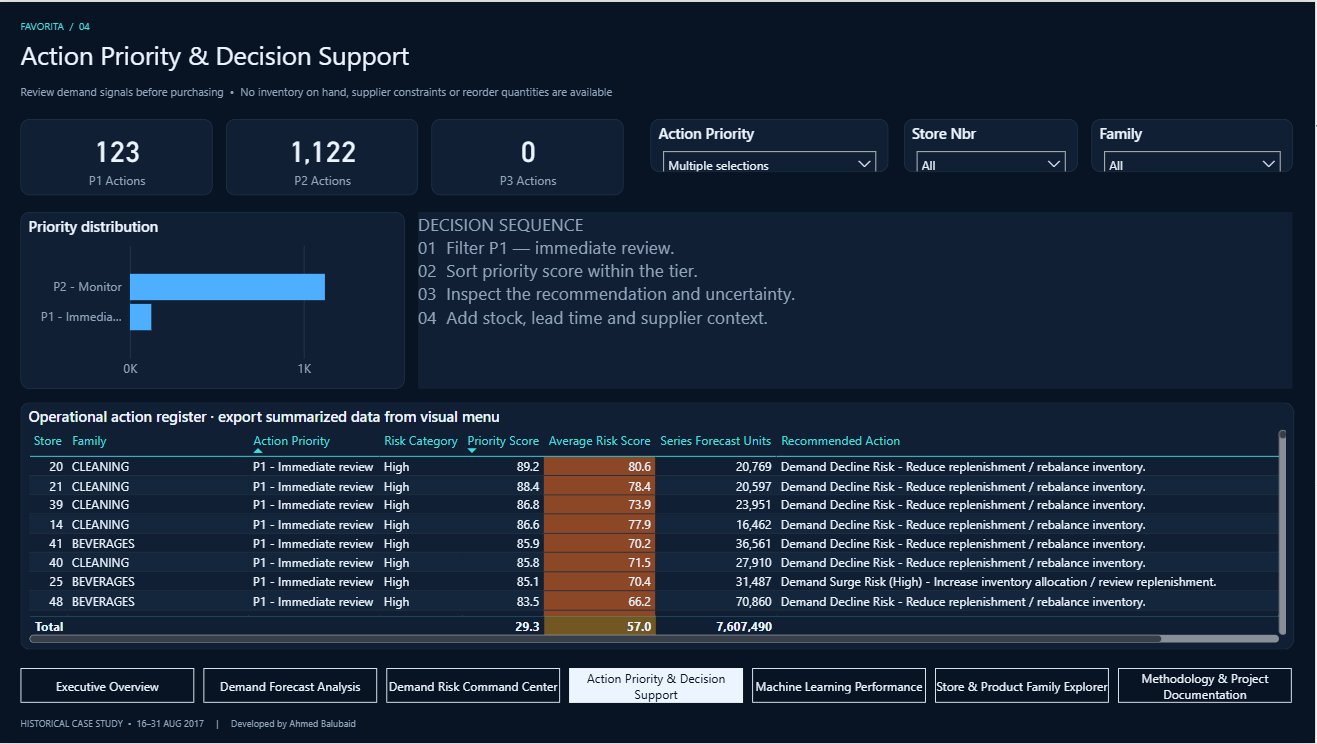

This screenshot's page, from the dashboard's own definition file:
{"tool":"powerbi","page":{"name":"Action Priority & Decision Support","canvas":[1440,810],"ordinal":3},"visuals":[{"type":"textbox","box":[24,14,300,24],"z":54},{"type":"textbox","box":[24,40,1370,44],"z":55},{"type":"textbox","box":[24,87,1370,30],"z":56},{"type":"textbox","box":[24,777,1040,22],"z":57},{"type":"pageNavigator","box":[24,729,1392,38],"z":58},{"type":"card","fields":{"Values":["FactForecast.P1 Actions"]},"box":[24,128,210,83],"z":59},{"type":"card","fields":{"Values":["FactForecast.P2 Actions"]},"box":[249,128,210,83],"z":60},{"type":"card","fields":{"Values":["FactForecast.P3 Actions"]},"box":[474,128,210,83],"z":61},{"type":"slicer","title":"Action Priority","fields":{"Values":["DimPriority.action_priority"]},"box":[714,128,260,58],"z":62},{"type":"slicer","title":"Store Nbr","fields":{"Values":["DimStore.store_nbr"]},"box":[990,128,190,58],"z":63},{"type":"slicer","title":"Family","fields":{"Values":["DimFamily.family"]},"box":[1196,128,220,58],"z":64},{"type":"clusteredBarChart","title":"Priority distribution","fields":{"Category":["DimPriority.action_priority"],"Y":["FactForecast.Combinations"]},"box":[24,229,420,193],"z":65},{"type":"textbox","box":[460,229,956,193],"z":66},{"type":"tableEx","title":"Operational action register · export summarized data from visual menu","fields":{"Values":["DimStore.store_nbr","DimFamily.family","DimPriority.action_priority","DimRiskCategory.risk_category","FactForecast.Priority Score","FactForecast.Average Risk Score","FactForecast.Series Forecast Units","FactInventoryRisk.recommended_action"]},"box":[24,438,1392,270],"z":67}]}

Visuals, with their boxes in screenshot pixels (x1, y1, x2, y2), scaled from the page's 1440x810 canvas onto the 1317x744 screenshot:
textbox: bbox(22, 13, 296, 35)
textbox: bbox(22, 37, 1275, 77)
textbox: bbox(22, 80, 1275, 107)
textbox: bbox(22, 714, 973, 734)
pageNavigator: bbox(22, 670, 1295, 705)
card - FactForecast.P1 Actions: bbox(22, 118, 214, 194)
card - FactForecast.P2 Actions: bbox(228, 118, 420, 194)
card - FactForecast.P3 Actions: bbox(434, 118, 626, 194)
"Action Priority" slicer: bbox(653, 118, 891, 171)
"Store Nbr" slicer: bbox(905, 118, 1079, 171)
"Family" slicer: bbox(1094, 118, 1295, 171)
"Priority distribution" clusteredBarChart: bbox(22, 210, 406, 388)
textbox: bbox(421, 210, 1295, 388)
"Operational action register · export summarized data from visual menu" tableEx: bbox(22, 402, 1295, 650)
